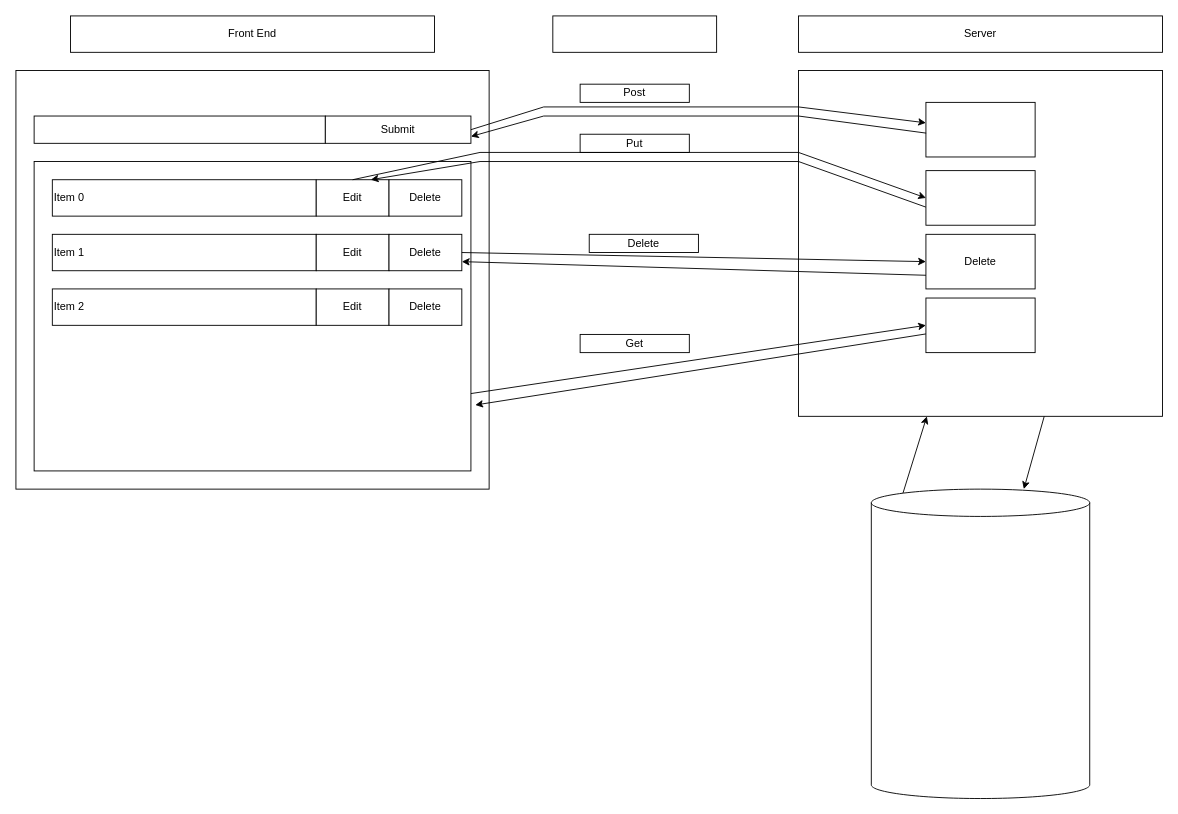
The diagram is 1178 pixels wide and 814 high, and some of its shapes have lost their labels. The shapes that lost their labels are listed below. From the top down, each one's centre as x and y in pixels, then its label:
[634,33]: HTTP
[179,129]: Enter Item Here
[980,129]: Create
[980,197]: Update
[980,325]: Read (all)
[980,643]: DB (PostgreSQL)
